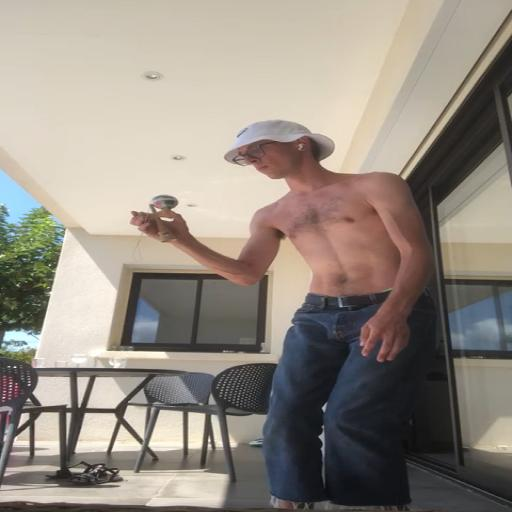kendama_ball: (151, 194, 178, 209)
